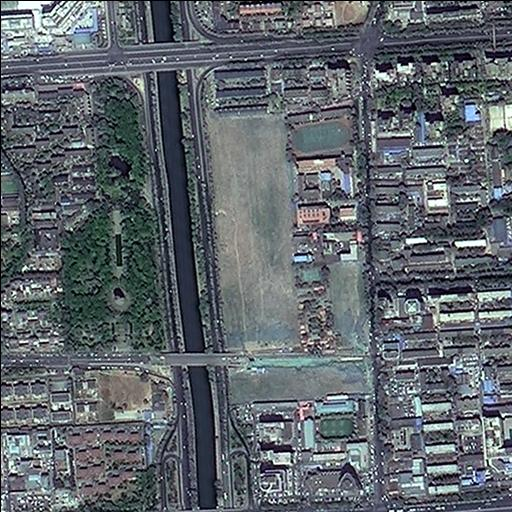school: (287, 110, 361, 226)
